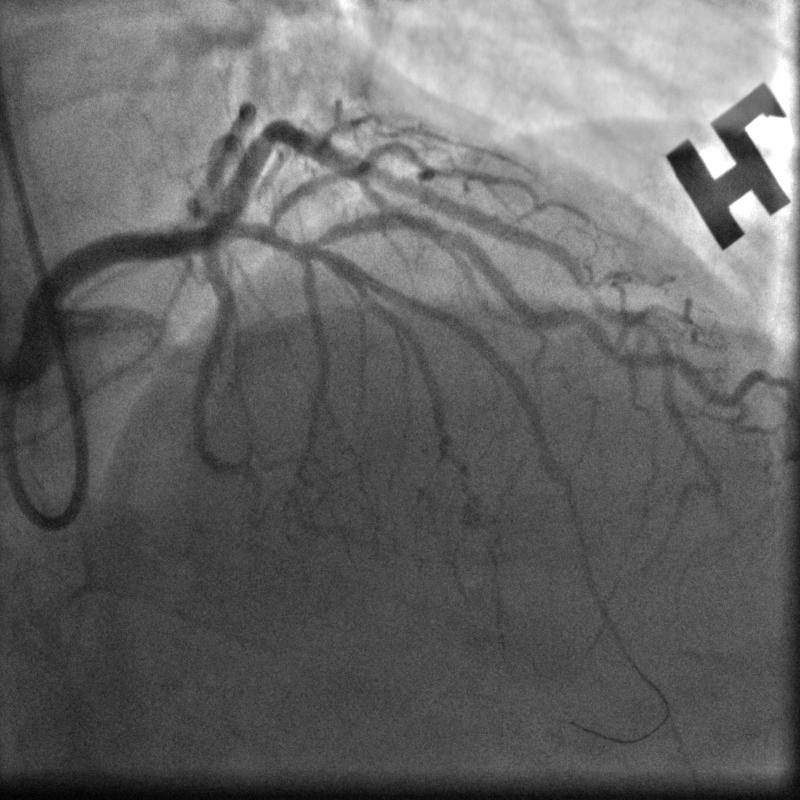Stenosis: (423, 211, 468, 248)
